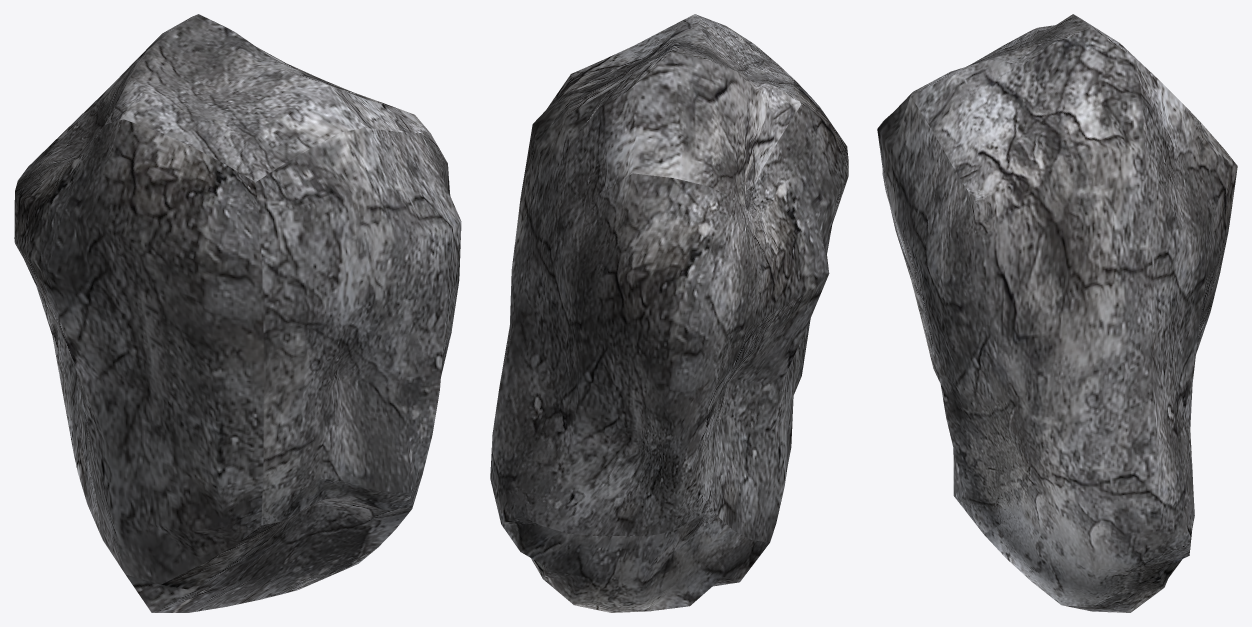
File: asteroid4.glb
The picture shows the model from 3 angles, left to right: view 1: azimuth 30°, elevation 25°; view 2: azimuth 150°, elevation 25°; view 3: azimuth 270°, elevation 25°; orthographic projection. The views are drawn at different scales.
Visible parts, largest first — view 1: Cube.039; view 2: Cube.039; view 3: Cube.039.
Boxes of the visible parts, <box> form: Cube.039: <box>14,14,461,612</box>; Cube.039: <box>490,14,848,612</box>; Cube.039: <box>877,14,1237,612</box>.
Bounding box in the file's own units: 20.86 × 34.97 × 20.86.
Materials: 1 (1 with a texture image).
